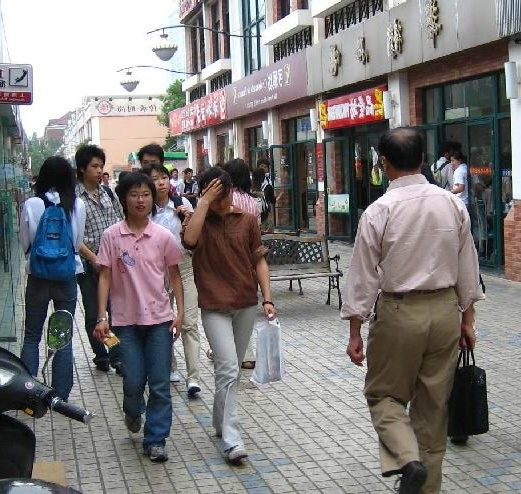person: (350, 116, 492, 493), (197, 164, 268, 467), (112, 171, 175, 470), (18, 156, 86, 396)
